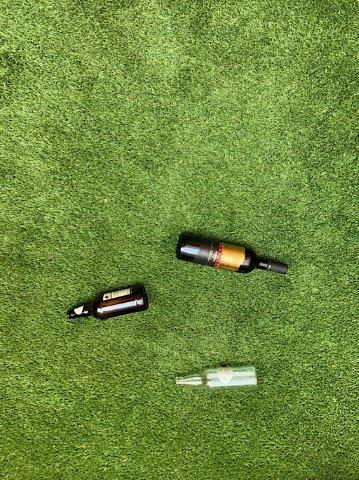botolkaca: (175, 234, 290, 277), (66, 285, 148, 322), (175, 367, 258, 388)
